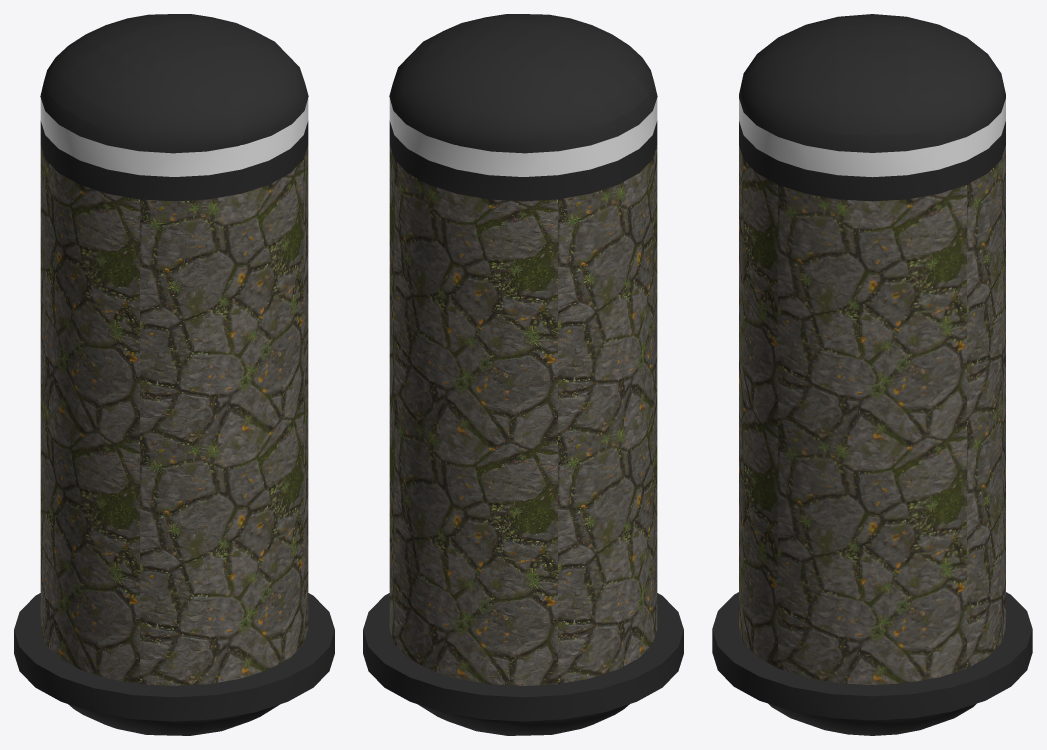
File: Dummy.fbx
The picture shows the model from 3 angles, left to right: view 1: azimuth 30°, elevation 25°; view 2: azimuth 150°, elevation 25°; view 3: azimuth 270°, elevation 25°; orthographic projection.
Visible parts, largest first — view 1: cylinder_full_0, sphere_dome_1, cylinder_hollow_4, cylinder_hollow_5, cylinder_hollow_6, sphere_dome_2; view 2: cylinder_full_0, sphere_dome_1, cylinder_hollow_4, cylinder_hollow_5, cylinder_hollow_6, sphere_dome_2; view 3: cylinder_full_0, sphere_dome_1, cylinder_hollow_4, cylinder_hollow_5, cylinder_hollow_6, sphere_dome_2.
Boxes of the visible parts, left/top/right/bottom form: cylinder_full_0: left=40, top=145, right=308, bottom=685; sphere_dome_1: left=40, top=14, right=308, bottom=153; cylinder_hollow_4: left=14, top=593, right=334, bottom=721; cylinder_hollow_5: left=40, top=121, right=308, bottom=201; cylinder_hollow_6: left=40, top=98, right=308, bottom=176; sphere_dome_2: left=68, top=704, right=279, bottom=735; cylinder_full_0: left=389, top=145, right=657, bottom=685; sphere_dome_1: left=389, top=14, right=657, bottom=153; cylinder_hollow_4: left=363, top=593, right=683, bottom=721; cylinder_hollow_5: left=389, top=121, right=657, bottom=201; cylinder_hollow_6: left=389, top=98, right=657, bottom=176; sphere_dome_2: left=418, top=704, right=629, bottom=735; cylinder_full_0: left=739, top=145, right=1005, bottom=684; sphere_dome_1: left=739, top=14, right=1005, bottom=152; cylinder_hollow_4: left=712, top=592, right=1032, bottom=720; cylinder_hollow_5: left=739, top=121, right=1005, bottom=201; cylinder_hollow_6: left=739, top=99, right=1005, bottom=177; sphere_dome_2: left=768, top=703, right=976, bottom=735.
Bounding box in the file's own units: 12 × 28 × 12.
